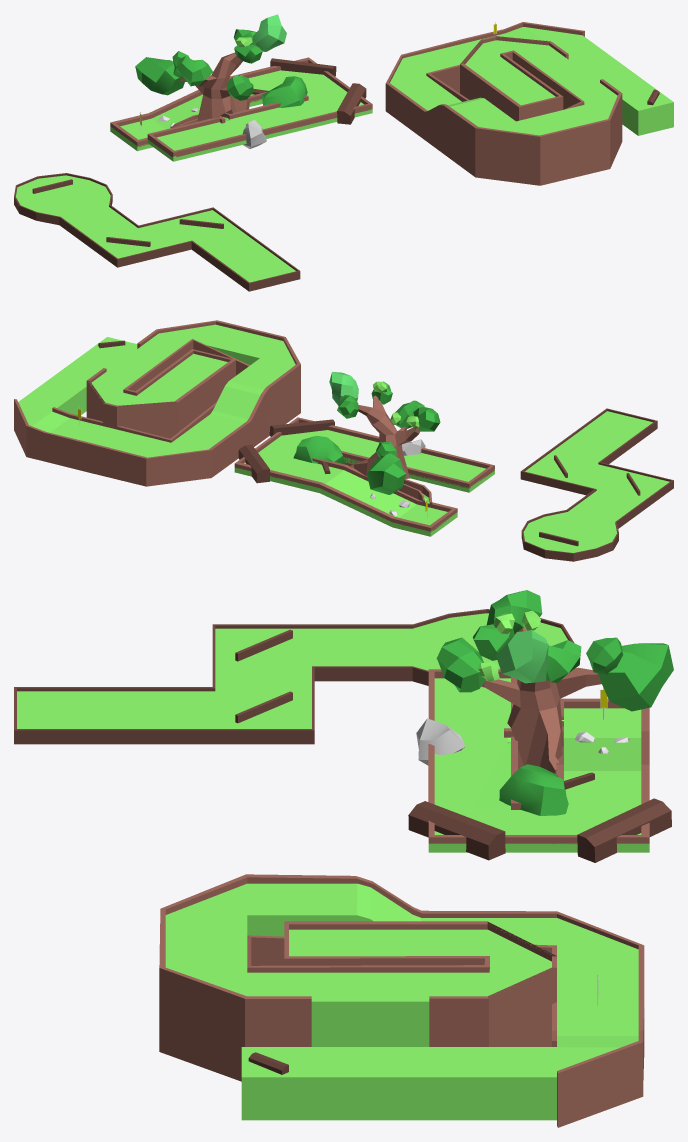
File: HoleSet01_Banking.fbx
3 renders of one model, top to bottom at view 1: azimuth 30°, elevation 25°; view 2: azimuth 150°, elevation 25°; view 3: azimuth 270°, elevation 25°, orthographic. The views are drawn at different scales.
Visible parts, largest first — view 1: Cube.023, Cube.022, Cube.062, Cube.014, Cube.016, Cube.063, Cylinder.017, rock.224, rock.215, rock.221, rock.220, Cube.017 (+3 smaller); view 2: Cube.022, Cube.023, Cube.062, Cube.014, Cube.016, Cube.063, Cylinder.017, rock.224, rock.215, Cube.018, rock.221, Cube.017 (+3 smaller); view 3: Cube.022, Cube.023, Cube.062, Cube.014, Cube.063, Cylinder.017, Cube.016, rock.224, Cube.018, Cube.017, rock.215, rock.221 (+6 smaller).
Boxes of the visible parts, box(x1,y1,x2,y2) form: Cube.023: box(385, 22, 622, 185); Cube.022: box(390, 27, 673, 135); Cube.062: box(16, 175, 295, 282); Cube.014: box(110, 70, 372, 161); Cube.016: box(110, 57, 372, 157); Cube.063: box(14, 173, 300, 291); Cylinder.017: box(180, 52, 249, 121); rock.224: box(135, 57, 184, 95); rock.215: box(261, 76, 307, 107); rock.221: box(252, 14, 286, 51); rock.220: box(176, 56, 212, 86); Cube.017: box(337, 83, 366, 124); Cube.022: box(18, 324, 295, 457); Cube.023: box(14, 320, 300, 486); Cube.062: box(523, 411, 669, 552); Cube.014: box(234, 430, 494, 536); Cube.016: box(234, 417, 494, 532); Cube.063: box(520, 408, 673, 561); Cylinder.017: box(349, 395, 419, 479); rock.224: box(367, 453, 406, 494); rock.215: box(293, 435, 345, 464); Cube.018: box(238, 444, 269, 483); rock.221: box(329, 371, 358, 405); Cube.017: box(269, 419, 334, 436); Cube.022: box(165, 883, 638, 1120); Cube.023: box(159, 874, 644, 1127); Cube.062: box(17, 613, 567, 728); Cube.014: box(428, 678, 649, 852); Cube.063: box(14, 609, 574, 744); Cylinder.017: box(481, 628, 601, 773); Cube.016: box(428, 669, 649, 844); rock.224: box(597, 643, 673, 711); Cube.018: box(577, 798, 671, 862); Cube.017: box(408, 801, 505, 860); rock.215: box(499, 764, 568, 815); rock.221: box(496, 630, 548, 683).
Bounding box in the file's own units: 3072 × 653 × 1735.
